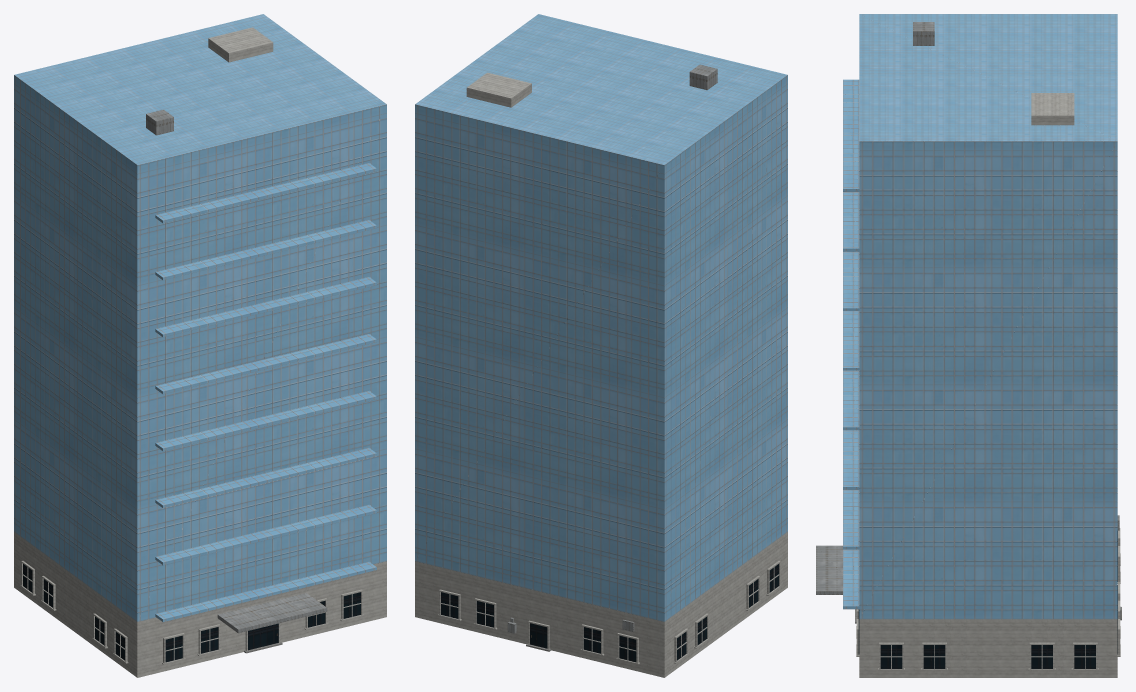
File: adams-corner-condos_lod0.gltf
3 renders of one model, left to right at view 1: azimuth 30°, elevation 25°; view 2: azimuth 150°, elevation 25°; view 3: azimuth 270°, elevation 25°, orthographic. The views are drawn at different scales.
Visible parts, largest first — view 1: adams-corner-condos_upper, adams-corner-condos__balconies, adams-corner-condos_base, adams-corner-condos_fen_07-glass-curtain-blue_1_t, adams-corner-condos_fen_15-concrete-boardformed_0, adams-corner-condos__canopy, adams-corner-condos__terrace, adams-corner-condos__vent; view 2: adams-corner-condos_upper, adams-corner-condos_base, adams-corner-condos_fen_07-glass-curtain-blue_1_t, adams-corner-condos_fen_15-concrete-boardformed_0, adams-corner-condos__terrace, adams-corner-condos__vent; view 3: adams-corner-condos_upper, adams-corner-condos_base, adams-corner-condos__balconies, adams-corner-condos_fen_07-glass-curtain-blue_1_t, adams-corner-condos_fen_15-concrete-boardformed_0, adams-corner-condos__terrace, adams-corner-condos__canopy, adams-corner-condos__vent.
Boxes of the visible parts, bbox=[...] form: adams-corner-condos_upper: bbox=[14, 14, 386, 621]; adams-corner-condos__balconies: bbox=[155, 163, 376, 622]; adams-corner-condos_base: bbox=[14, 532, 386, 677]; adams-corner-condos_fen_07-glass-curtain-blue_1_t: bbox=[23, 564, 360, 662]; adams-corner-condos_fen_15-concrete-boardformed_0: bbox=[20, 561, 363, 664]; adams-corner-condos__canopy: bbox=[217, 593, 327, 633]; adams-corner-condos__terrace: bbox=[208, 27, 273, 62]; adams-corner-condos__vent: bbox=[146, 109, 173, 135]; adams-corner-condos_upper: bbox=[415, 14, 787, 621]; adams-corner-condos_base: bbox=[415, 532, 787, 677]; adams-corner-condos_fen_07-glass-curtain-blue_1_t: bbox=[441, 564, 778, 662]; adams-corner-condos_fen_15-concrete-boardformed_0: bbox=[438, 561, 781, 664]; adams-corner-condos__terrace: bbox=[466, 72, 531, 107]; adams-corner-condos__vent: bbox=[689, 64, 717, 90]; adams-corner-condos_upper: bbox=[859, 14, 1117, 619]; adams-corner-condos_base: bbox=[859, 619, 1117, 677]; adams-corner-condos__balconies: bbox=[843, 79, 859, 609]; adams-corner-condos_fen_07-glass-curtain-blue_1_t: bbox=[858, 531, 1117, 668]; adams-corner-condos_fen_15-concrete-boardformed_0: bbox=[856, 528, 1120, 670]; adams-corner-condos__terrace: bbox=[1031, 93, 1074, 125]; adams-corner-condos__canopy: bbox=[816, 545, 842, 594]; adams-corner-condos__vent: bbox=[913, 22, 934, 45].
Bounding box in the file's own units: 28.55 × 56.5 × 28.4.
